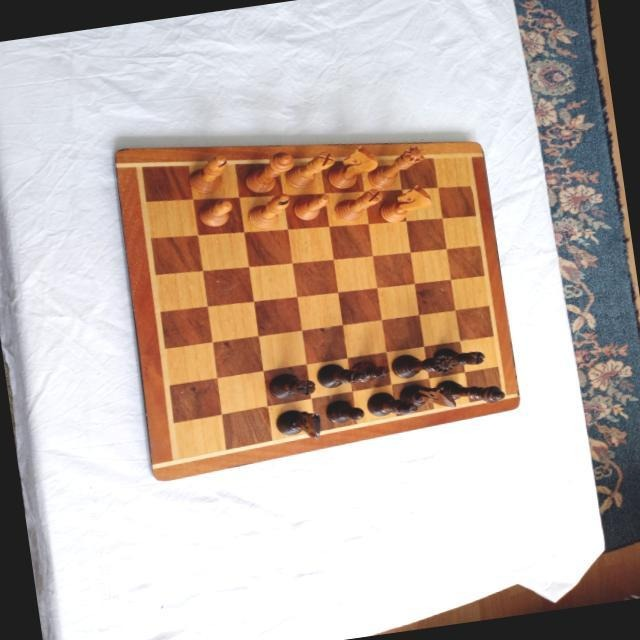black-bishop: (366, 387, 418, 420), (315, 360, 365, 390)
black-king: (434, 373, 506, 411)
black-knight: (398, 378, 458, 416), (273, 406, 322, 446)
black-pawn: (323, 396, 364, 425), (350, 357, 390, 384)
black-queen: (388, 347, 457, 381)
black-rook: (430, 341, 485, 372), (267, 369, 316, 401)
white-bishop: (185, 152, 231, 196), (243, 193, 293, 231)
white-king: (239, 149, 296, 195)
white-knight: (323, 144, 381, 191), (377, 183, 435, 225)
white-pawn: (195, 198, 234, 229), (291, 193, 332, 222)
white-queen: (362, 144, 429, 192)
white-rook: (282, 149, 338, 190), (332, 188, 386, 224)
